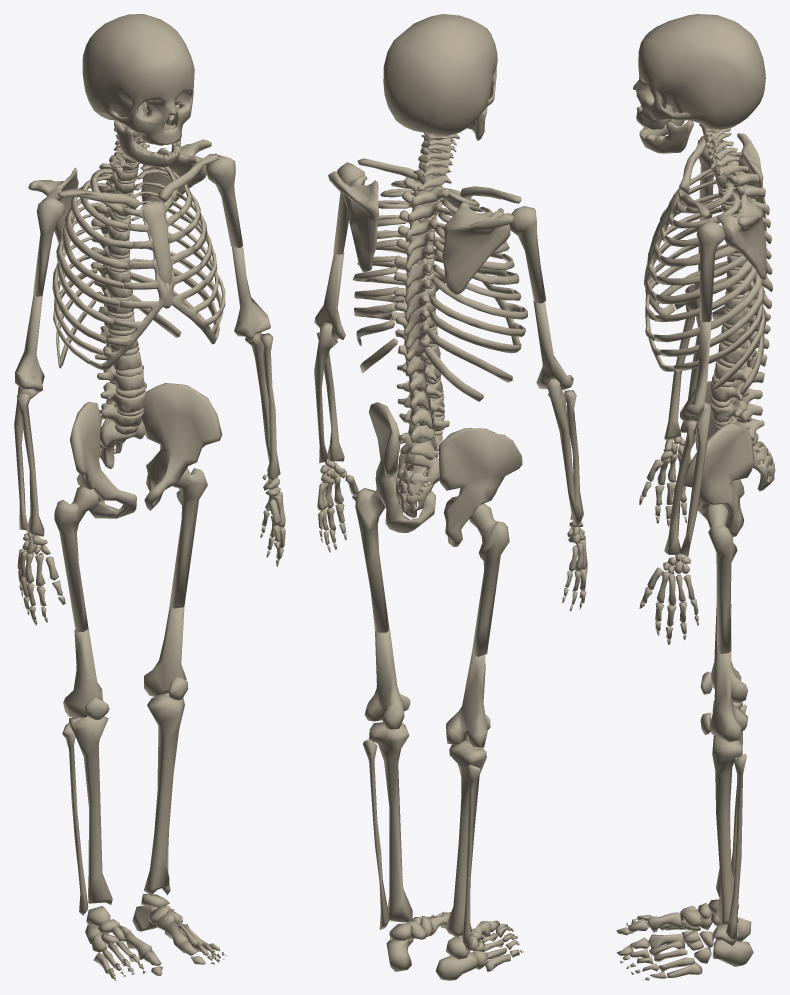
Rendered from pediatric_child_10y_female.skeletal.LOD2.glb.
The picture shows the model from 3 angles, left to right: view 1: azimuth 30°, elevation 25°; view 2: azimuth 150°, elevation 25°; view 3: azimuth 270°, elevation 25°; orthographic projection.
Parts seen in each view (by area): view 1: PEDIATRIC.CHILD_10Y.FEMALE.SKELETAL.CRANIUM_CORTICAL, PEDIATRIC.CHILD_10Y.FEMALE.SKELETAL.RIBS_CORTICAL, PEDIATRIC.CHILD_10Y.FEMALE.SKELETAL.PELVIS_CORTICAL, PEDIATRIC.CHILD_10Y.FEMALE.SKELETAL.TIBIAE_CORTICAL, PEDIATRIC.CHILD_10Y.FEMALE.SKELETAL.CARTILAGE_TRUNK, PEDIATRIC.CHILD_10Y.FEMALE.SKELETAL.FEMORA_UPPER_CORTICAL, PEDIATRIC.CHILD_10Y.FEMALE.SKELETAL.ANKLES_AND_FOOT_CORTICAL, PEDIATRIC.CHILD_10Y.FEMALE.SKELETAL.FEMORA_LOWER_CORTICAL, PEDIATRIC.CHILD_10Y.FEMALE.SKELETAL.WRISTS_AND_HAND_BONES_CO, PEDIATRIC.CHILD_10Y.FEMALE.SKELETAL.THORACIC_SPINE_CORTICAL, PEDIATRIC.CHILD_10Y.FEMALE.SKELETAL.HUMERI_LOWER_CORTICAL, PEDIATRIC.CHILD_10Y.FEMALE.SKELETAL.HUMERI_UPPER_CORTICAL (+11 smaller); view 2: PEDIATRIC.CHILD_10Y.FEMALE.SKELETAL.CRANIUM_CORTICAL, PEDIATRIC.CHILD_10Y.FEMALE.SKELETAL.RIBS_CORTICAL, PEDIATRIC.CHILD_10Y.FEMALE.SKELETAL.PELVIS_CORTICAL, PEDIATRIC.CHILD_10Y.FEMALE.SKELETAL.SCAPULAE_CORTICAL, PEDIATRIC.CHILD_10Y.FEMALE.SKELETAL.TIBIAE_CORTICAL, PEDIATRIC.CHILD_10Y.FEMALE.SKELETAL.THORACIC_SPINE_CORTICAL, PEDIATRIC.CHILD_10Y.FEMALE.SKELETAL.FEMORA_UPPER_CORTICAL, PEDIATRIC.CHILD_10Y.FEMALE.SKELETAL.FEMORA_LOWER_CORTICAL, PEDIATRIC.CHILD_10Y.FEMALE.SKELETAL.ANKLES_AND_FOOT_CORTICAL, PEDIATRIC.CHILD_10Y.FEMALE.SKELETAL.LUMBAR_SPINE_CORTICAL, PEDIATRIC.CHILD_10Y.FEMALE.SKELETAL.WRISTS_AND_HAND_BONES_CO, PEDIATRIC.CHILD_10Y.FEMALE.SKELETAL.ULNAE_CORTICAL (+8 smaller); view 3: PEDIATRIC.CHILD_10Y.FEMALE.SKELETAL.CRANIUM_CORTICAL, PEDIATRIC.CHILD_10Y.FEMALE.SKELETAL.RIBS_CORTICAL, PEDIATRIC.CHILD_10Y.FEMALE.SKELETAL.ANKLES_AND_FOOT_CORTICAL, PEDIATRIC.CHILD_10Y.FEMALE.SKELETAL.PELVIS_CORTICAL, PEDIATRIC.CHILD_10Y.FEMALE.SKELETAL.WRISTS_AND_HAND_BONES_CO, PEDIATRIC.CHILD_10Y.FEMALE.SKELETAL.SCAPULAE_CORTICAL, PEDIATRIC.CHILD_10Y.FEMALE.SKELETAL.TIBIAE_CORTICAL, PEDIATRIC.CHILD_10Y.FEMALE.SKELETAL.THORACIC_SPINE_CORTICAL, PEDIATRIC.CHILD_10Y.FEMALE.SKELETAL.LUMBAR_SPINE_CORTICAL, PEDIATRIC.CHILD_10Y.FEMALE.SKELETAL.FEMORA_LOWER_CORTICAL, PEDIATRIC.CHILD_10Y.FEMALE.SKELETAL.FEMORA_UPPER_CORTICAL, PEDIATRIC.CHILD_10Y.FEMALE.SKELETAL.CARTILAGE_TRUNK (+11 smaller).
Boxes of the visible parts, x1,y1,x2,y2 form: PEDIATRIC.CHILD_10Y.FEMALE.SKELETAL.CRANIUM_CORTICAL: (82,14,194,145); PEDIATRIC.CHILD_10Y.FEMALE.SKELETAL.RIBS_CORTICAL: (52,165,225,368); PEDIATRIC.CHILD_10Y.FEMALE.SKELETAL.PELVIS_CORTICAL: (70,383,222,518); PEDIATRIC.CHILD_10Y.FEMALE.SKELETAL.TIBIAE_CORTICAL: (68,694,184,904); PEDIATRIC.CHILD_10Y.FEMALE.SKELETAL.CARTILAGE_TRUNK: (89,136,220,435); PEDIATRIC.CHILD_10Y.FEMALE.SKELETAL.FEMORA_UPPER_CORTICAL: (54,468,207,631); PEDIATRIC.CHILD_10Y.FEMALE.SKELETAL.ANKLES_AND_FOOT_CORTICAL: (85,894,227,980); PEDIATRIC.CHILD_10Y.FEMALE.SKELETAL.FEMORA_LOWER_CORTICAL: (63,606,186,717); PEDIATRIC.CHILD_10Y.FEMALE.SKELETAL.WRISTS_AND_HAND_BONES_CO: (17,473,285,625); PEDIATRIC.CHILD_10Y.FEMALE.SKELETAL.THORACIC_SPINE_CORTICAL: (91,155,138,330); PEDIATRIC.CHILD_10Y.FEMALE.SKELETAL.HUMERI_LOWER_CORTICAL: (15,246,270,392); PEDIATRIC.CHILD_10Y.FEMALE.SKELETAL.HUMERI_UPPER_CORTICAL: (33,155,242,296); PEDIATRIC.CHILD_10Y.FEMALE.SKELETAL.CRANIUM_CORTICAL: (383,14,497,135); PEDIATRIC.CHILD_10Y.FEMALE.SKELETAL.RIBS_CORTICAL: (352,180,527,401); PEDIATRIC.CHILD_10Y.FEMALE.SKELETAL.PELVIS_CORTICAL: (368,402,522,546); PEDIATRIC.CHILD_10Y.FEMALE.SKELETAL.SCAPULAE_CORTICAL: (328,171,514,294); PEDIATRIC.CHILD_10Y.FEMALE.SKELETAL.TIBIAE_CORTICAL: (369,722,486,937); PEDIATRIC.CHILD_10Y.FEMALE.SKELETAL.THORACIC_SPINE_CORTICAL: (393,177,449,376); PEDIATRIC.CHILD_10Y.FEMALE.SKELETAL.FEMORA_UPPER_CORTICAL: (355,488,509,656); PEDIATRIC.CHILD_10Y.FEMALE.SKELETAL.FEMORA_LOWER_CORTICAL: (364,630,487,747); PEDIATRIC.CHILD_10Y.FEMALE.SKELETAL.ANKLES_AND_FOOT_CORTICAL: (386,911,523,980); PEDIATRIC.CHILD_10Y.FEMALE.SKELETAL.LUMBAR_SPINE_CORTICAL: (396,362,449,460); PEDIATRIC.CHILD_10Y.FEMALE.SKELETAL.WRISTS_AND_HAND_BONES_CO: (317,460,587,611); PEDIATRIC.CHILD_10Y.FEMALE.SKELETAL.ULNAE_CORTICAL: (314,322,581,526); PEDIATRIC.CHILD_10Y.FEMALE.SKELETAL.CRANIUM_CORTICAL: (633,14,765,129); PEDIATRIC.CHILD_10Y.FEMALE.SKELETAL.RIBS_CORTICAL: (654,165,765,395); PEDIATRIC.CHILD_10Y.FEMALE.SKELETAL.ANKLES_AND_FOOT_CORTICAL: (616,899,753,980); PEDIATRIC.CHILD_10Y.FEMALE.SKELETAL.PELVIS_CORTICAL: (680,381,754,536); PEDIATRIC.CHILD_10Y.FEMALE.SKELETAL.WRISTS_AND_HAND_BONES_CO: (639,436,698,644); PEDIATRIC.CHILD_10Y.FEMALE.SKELETAL.SCAPULAE_CORTICAL: (717,133,766,279); PEDIATRIC.CHILD_10Y.FEMALE.SKELETAL.TIBIAE_CORTICAL: (712,701,742,924); PEDIATRIC.CHILD_10Y.FEMALE.SKELETAL.THORACIC_SPINE_CORTICAL: (716,160,772,348); PEDIATRIC.CHILD_10Y.FEMALE.SKELETAL.LUMBAR_SPINE_CORTICAL: (710,340,767,441); PEDIATRIC.CHILD_10Y.FEMALE.SKELETAL.FEMORA_LOWER_CORTICAL: (710,604,747,742); PEDIATRIC.CHILD_10Y.FEMALE.SKELETAL.FEMORA_UPPER_CORTICAL: (705,504,737,653); PEDIATRIC.CHILD_10Y.FEMALE.SKELETAL.CARTILAGE_TRUNK: (643,136,744,426).
Size of the model in its own units: 0.4007 by 1.38 by 0.2124.
